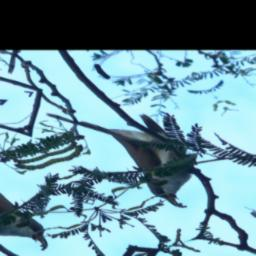Cuckoo: (40, 83, 234, 221)
